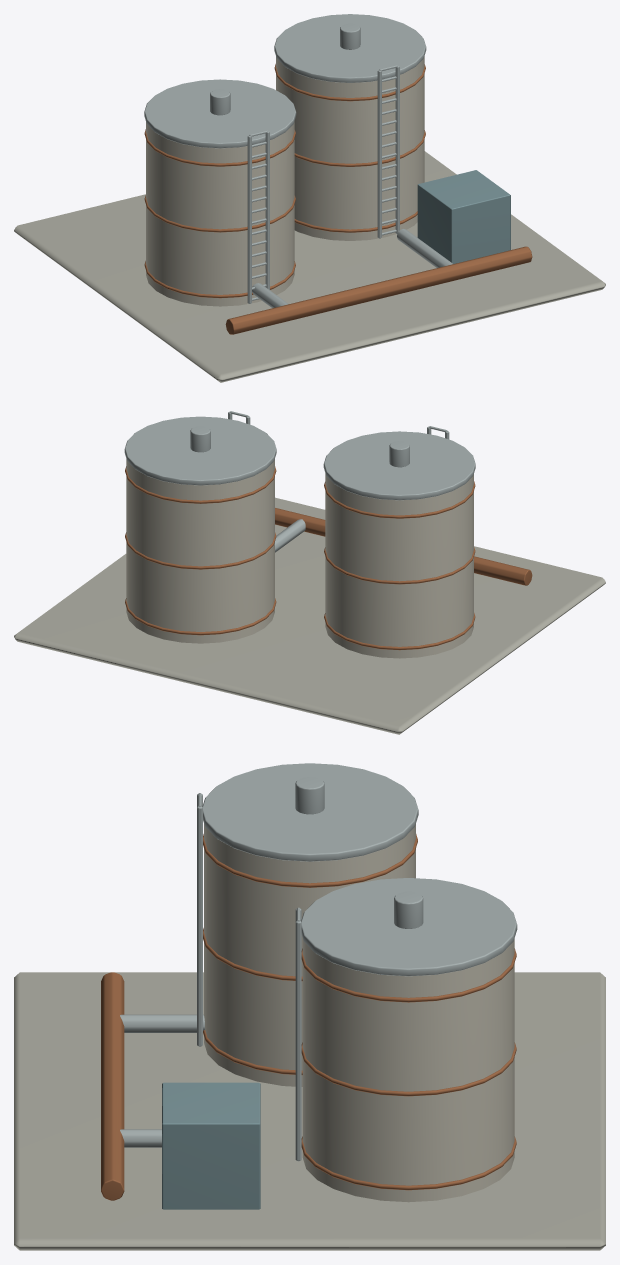
Rendered from DistrictUtilities.glb.
3 renders of one model, top to bottom at view 1: azimuth 30°, elevation 25°; view 2: azimuth 150°, elevation 25°; view 3: azimuth 270°, elevation 25°, orthographic. The views are drawn at different scales.
Parts seen in each view (by area): view 1: Utility foundation, Water storage, Water storage.001, Tank cap, Tank cap.001, Pump cabinet, Drain manifold, Ladder rail, Ladder rail.002, Ladder rail.003, Tank drain.001, Ladder rail.001 (+7 smaller); view 2: Utility foundation, Water storage, Water storage.001, Tank cap.001, Tank cap, Drain manifold, Tank strap.004, Tank strap.003, Tank strap.002, Tank strap.001, Tank strap, Tank strap.005 (+3 smaller); view 3: Utility foundation, Water storage.001, Water storage, Tank cap, Tank cap.001, Pump cabinet, Drain manifold, Ladder rail.003, Tank drain, Ladder rail.001, Tank strap.005, Tank strap.004 (+5 smaller).
Part boxes in pixels (bbox=[...]): Utility foundation: bbox=[14, 151, 605, 382]; Water storage: bbox=[146, 121, 294, 306]; Water storage.001: bbox=[276, 56, 424, 240]; Tank cap: bbox=[144, 79, 296, 148]; Tank cap.001: bbox=[274, 14, 426, 82]; Pump cabinet: bbox=[417, 170, 510, 263]; Drain manifold: bbox=[225, 246, 532, 334]; Ladder rail: bbox=[247, 135, 251, 303]; Ladder rail.002: bbox=[377, 70, 381, 238]; Ladder rail.003: bbox=[395, 65, 399, 233]; Tank drain.001: bbox=[397, 229, 452, 267]; Ladder rail.001: bbox=[265, 131, 269, 289]; Utility foundation: bbox=[14, 497, 605, 734]; Water storage: bbox=[325, 473, 473, 658]; Water storage.001: bbox=[126, 459, 274, 643]; Tank cap.001: bbox=[124, 416, 276, 485]; Tank cap: bbox=[323, 431, 475, 500]; Drain manifold: bbox=[275, 508, 532, 585]; Tank strap.004: bbox=[125, 532, 276, 569]; Tank strap.003: bbox=[125, 598, 276, 635]; Tank strap.002: bbox=[324, 481, 475, 518]; Tank strap.001: bbox=[324, 547, 475, 584]; Tank strap: bbox=[324, 613, 475, 650]; Tank strap.005: bbox=[125, 466, 276, 503]; Utility foundation: bbox=[14, 972, 605, 1250]; Water storage.001: bbox=[302, 938, 514, 1202]; Water storage: bbox=[204, 824, 415, 1086]; Tank cap: bbox=[202, 763, 418, 861]; Tank cap.001: bbox=[301, 878, 517, 976]; Pump cabinet: bbox=[162, 1082, 260, 1209]; Drain manifold: bbox=[101, 972, 124, 1200]; Ladder rail.003: bbox=[295, 921, 301, 1161]; Tank drain: bbox=[120, 1014, 204, 1032]; Ladder rail.001: bbox=[197, 806, 202, 1046]; Tank strap.005: bbox=[301, 948, 516, 1002]; Tank strap.004: bbox=[301, 1042, 516, 1096].
Bounding box in the file's own units: 13 × 6.1 × 12.
